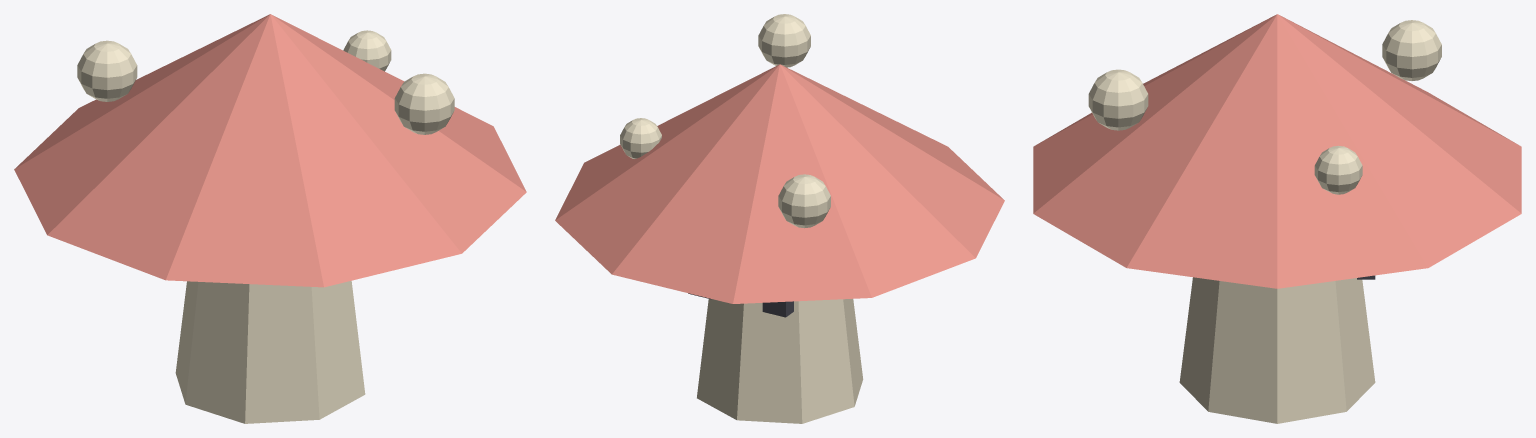
Rendered from mob_mushroom.glb.
3 renders of one model, left to right at view 1: azimuth 30°, elevation 25°; view 2: azimuth 150°, elevation 25°; view 3: azimuth 270°, elevation 25°, orthographic. The views are drawn at different scales.
Visible parts, largest first — view 1: mob_mushroom_01, mob_mushroom_00, mob_mushroom_03, mob_mushroom_02, mob_mushroom_04; view 2: mob_mushroom_01, mob_mushroom_00, mob_mushroom_02, mob_mushroom_03, mob_mushroom_04, mob_mushroom_05; view 3: mob_mushroom_01, mob_mushroom_00, mob_mushroom_03, mob_mushroom_02, mob_mushroom_04.
Boxes of the visible parts, box(x1,y1,x2,y2) form: mob_mushroom_01: box(14, 14, 526, 287); mob_mushroom_00: box(175, 281, 365, 423); mob_mushroom_03: box(394, 73, 454, 134); mob_mushroom_02: box(77, 40, 137, 101); mob_mushroom_04: box(343, 30, 391, 71); mob_mushroom_01: box(555, 64, 1004, 303); mob_mushroom_00: box(697, 299, 863, 423); mob_mushroom_02: box(778, 174, 830, 228); mob_mushroom_03: box(758, 14, 810, 67); mob_mushroom_04: box(620, 118, 661, 158); mob_mushroom_05: box(762, 301, 793, 317); mob_mushroom_01: box(1033, 14, 1521, 288); mob_mushroom_00: box(1179, 277, 1375, 423); mob_mushroom_03: box(1088, 69, 1148, 130); mob_mushroom_02: box(1382, 20, 1441, 80); mob_mushroom_04: box(1314, 145, 1362, 194).
Bounding box in the file's own units: 0.84 × 0.665 × 0.7989.
